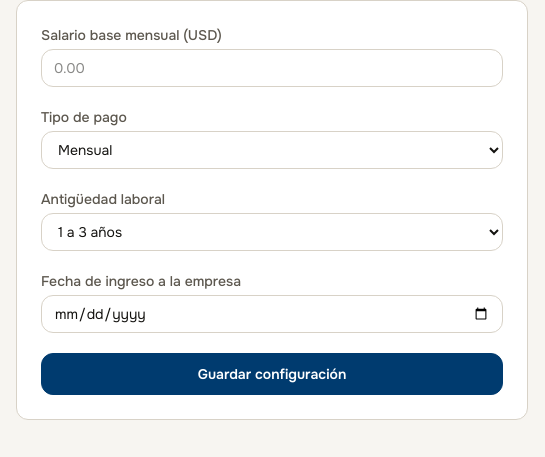
Test: ConfigInicial › muestra error cuando salarioBase es 0
Click the button "Guardar configuración" at x=272, y=374, box [41,353,503,395]
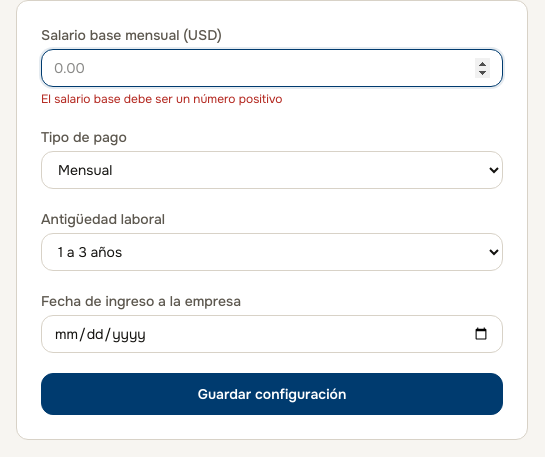
Expected: the text "El salario base debe ser un número positivo" is shown, [41,91,282,107]
